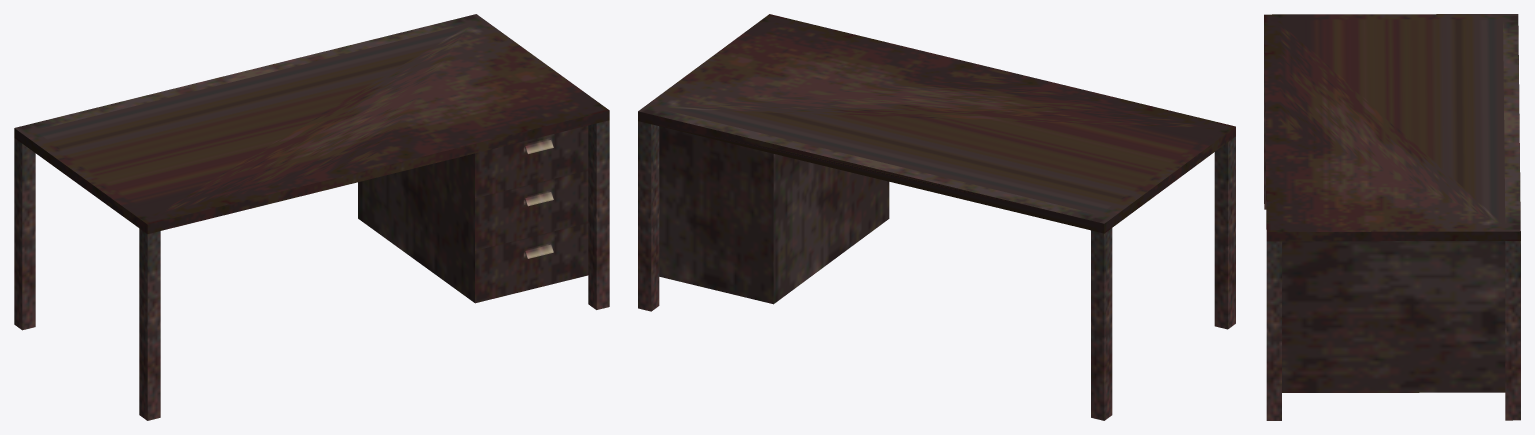
Rendered from desk2_alt2_weathered.obj.
3 renders of one model, left to right at view 1: azimuth 30°, elevation 25°; view 2: azimuth 150°, elevation 25°; view 3: azimuth 270°, elevation 25°, orthographic. The views are drawn at different scales.
Visible parts, largest first — view 1: desk2_alt2_weathered; view 2: desk2_alt2_weathered; view 3: desk2_alt2_weathered.
Boxes of the visible parts, box(x1,y1,x2,y2) form: desk2_alt2_weathered: box(14, 14, 609, 420); desk2_alt2_weathered: box(638, 14, 1235, 420); desk2_alt2_weathered: box(1264, 14, 1520, 420).
Bounding box in the file's own units: 2.21 × 0.8911 × 1.1.
